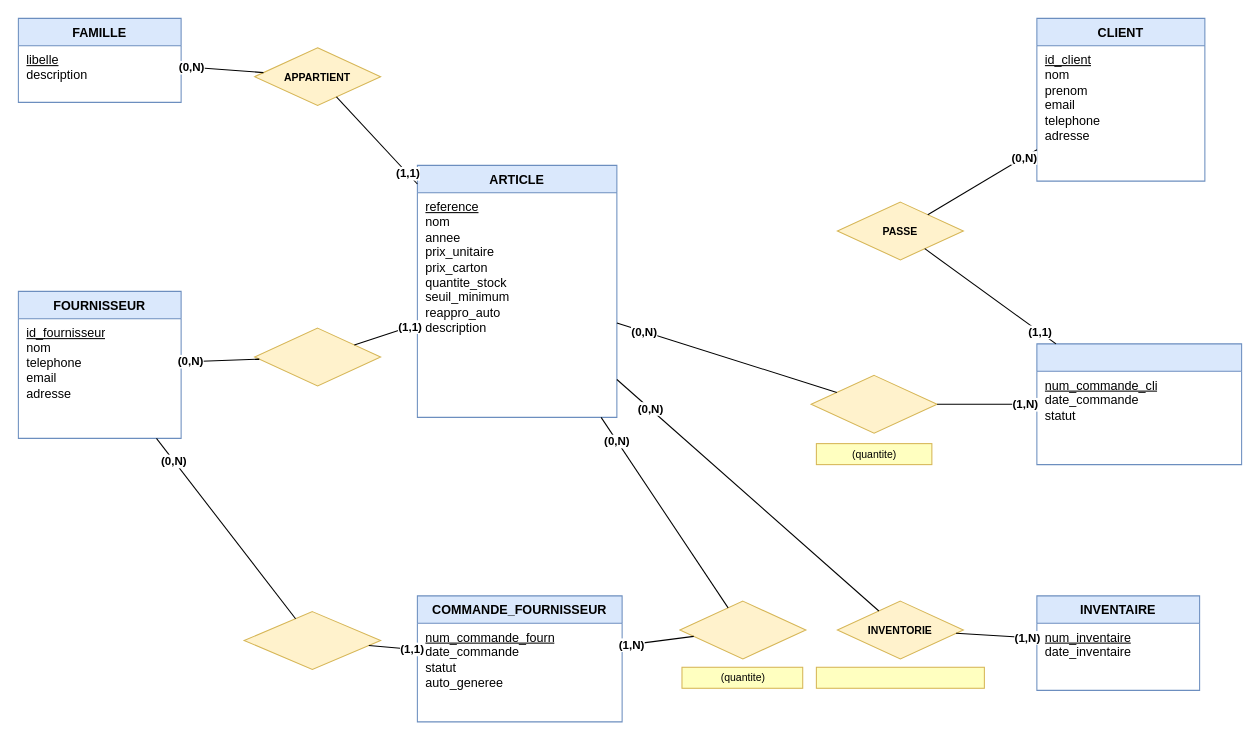
This 1260x743 diagram has some shape labels left out. Each missing label, with the box of its shape:
(quantite_comptee, ecart): (815, 666, 984, 688)
APPROVISIONNE: (243, 611, 381, 669)
COMMANDE_CLIENT: (1036, 343, 1242, 465)
CONCERNE: (679, 600, 806, 659)
CONTIENT: (810, 374, 937, 433)
FOURNIT: (254, 327, 381, 386)
